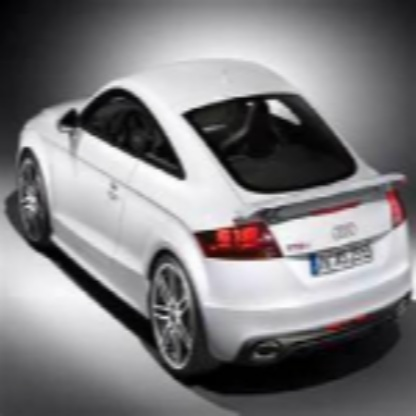Vehicle: (13, 52, 414, 396)
